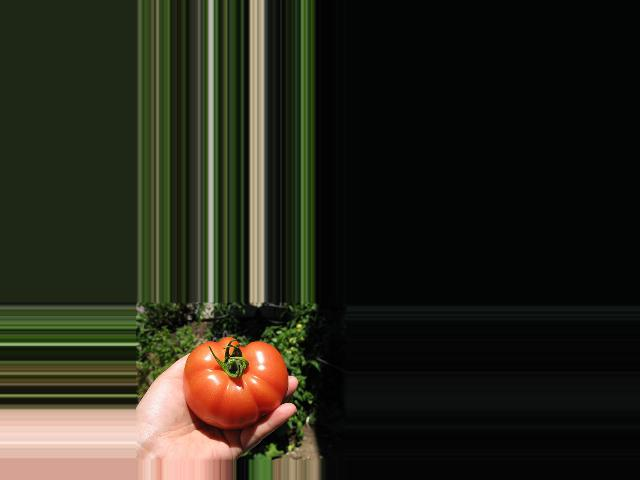tomato: (184, 337, 288, 428)
